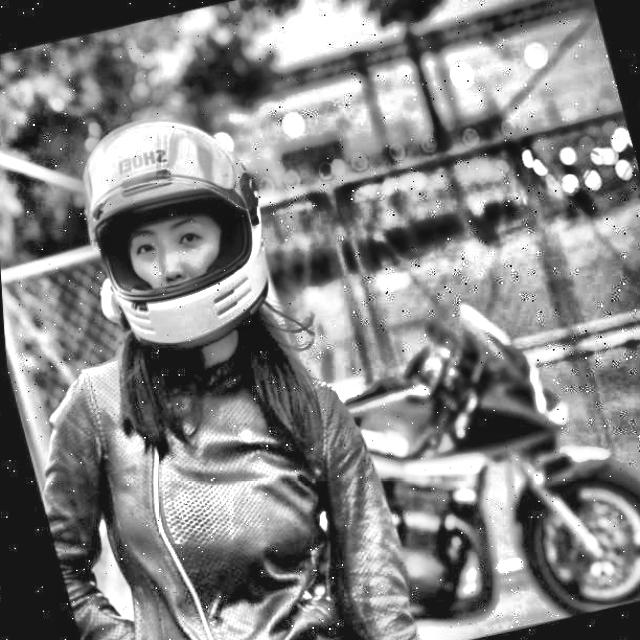Helmet: (47, 91, 299, 370)
